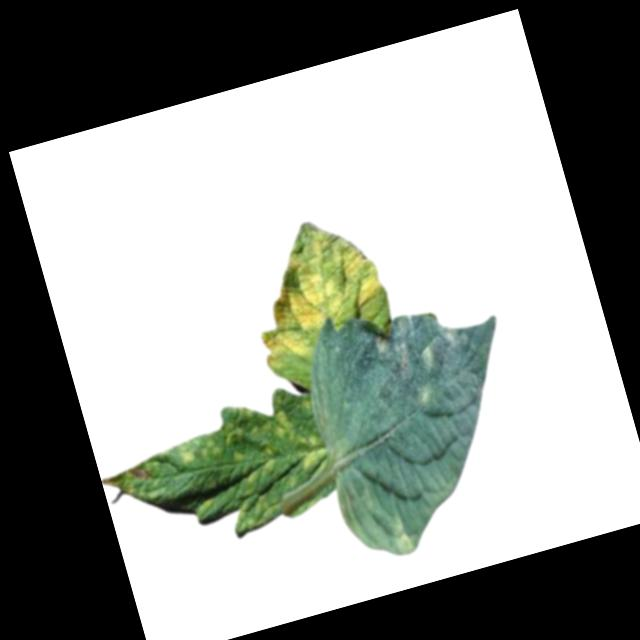Leaf_Mold: (90, 378, 347, 568), (232, 205, 400, 373), (369, 302, 482, 414), (329, 457, 421, 569)
